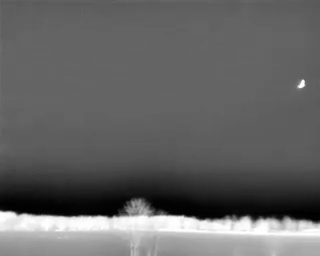BIRD: (294, 76, 310, 94)
